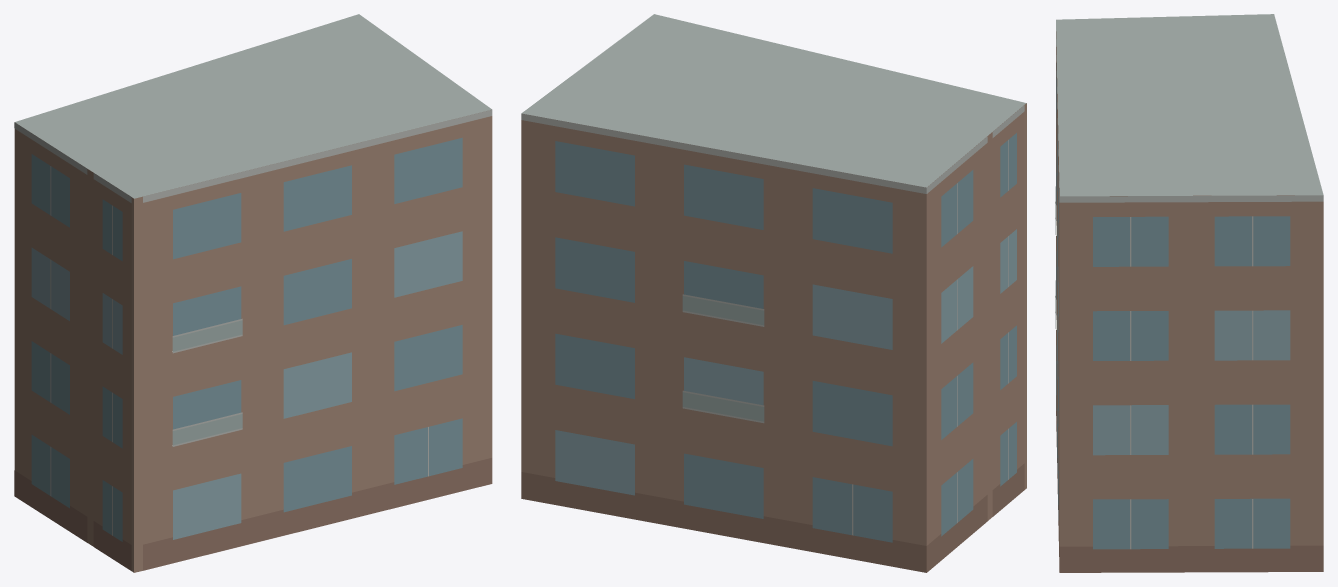
File: survey-upis-32718193.glb
The picture shows the model from 3 angles, left to right: view 1: azimuth 30°, elevation 25°; view 2: azimuth 150°, elevation 25°; view 3: azimuth 270°, elevation 25°; orthographic projection. The views are drawn at different scales.
Parts seen in each view (by area): view 1: survey-upis-32718193.tmp; view 2: survey-upis-32718193.tmp; view 3: survey-upis-32718193.tmp.
Boxes of the visible parts, <box> form: survey-upis-32718193.tmp: <box>14,14,492,572</box>; survey-upis-32718193.tmp: <box>521,14,1026,572</box>; survey-upis-32718193.tmp: <box>1055,14,1323,572</box>.
Size of the model in its own units: 14.86 by 14.3 by 9.25.
